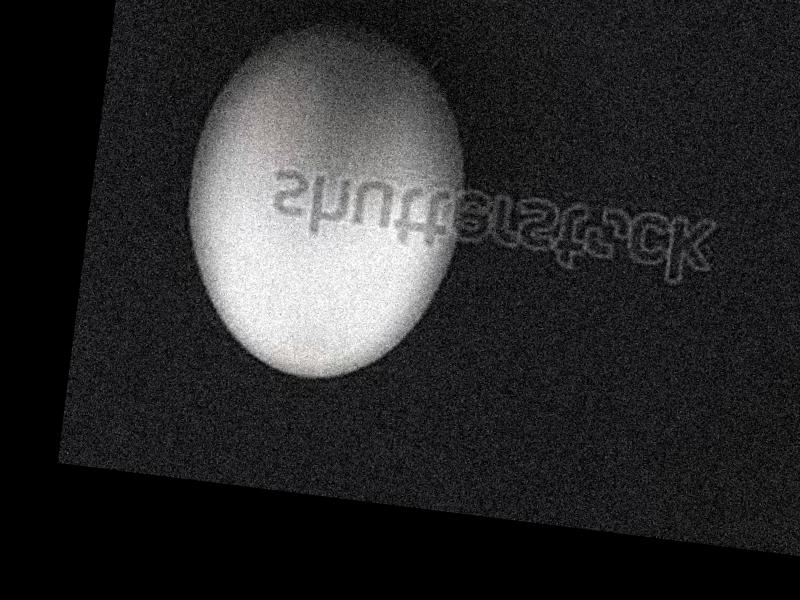Eggs: (165, 10, 475, 396)
